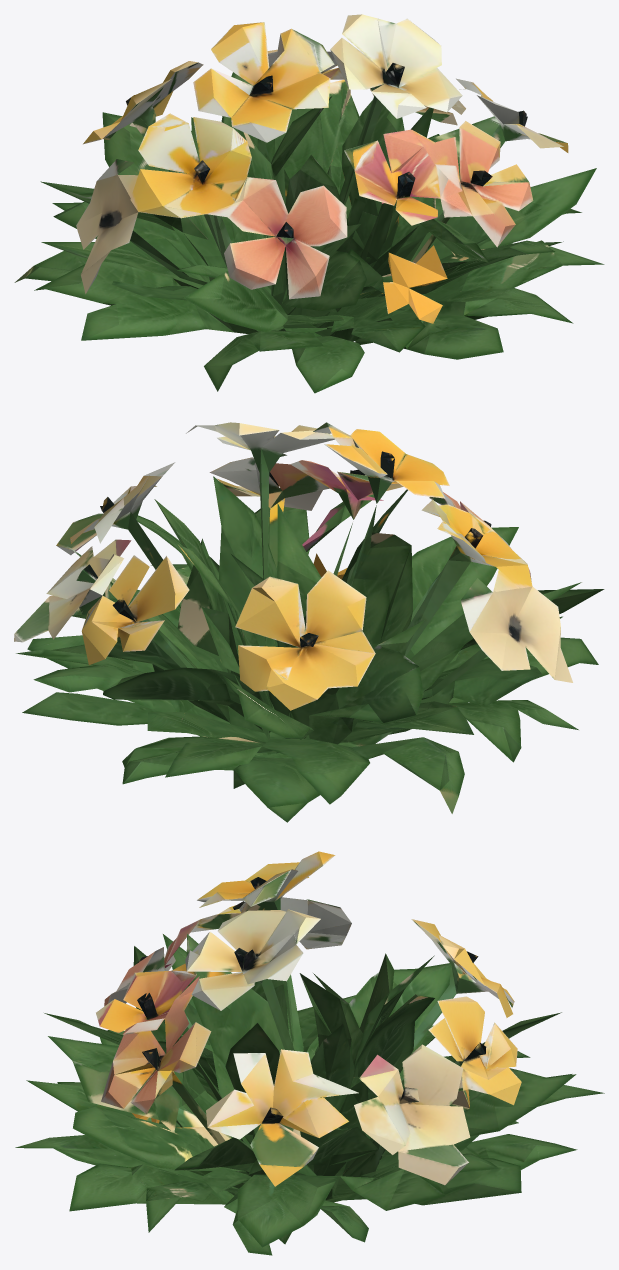
The model's file is flower_patch.glb.
The picture shows the model from 3 angles, top to bottom: view 1: azimuth 30°, elevation 25°; view 2: azimuth 150°, elevation 25°; view 3: azimuth 270°, elevation 25°; orthographic projection. The views are drawn at different scales.
Size of the model in its own units: 1.86 by 1.05 by 1.88.
1 material, 1 textured.
